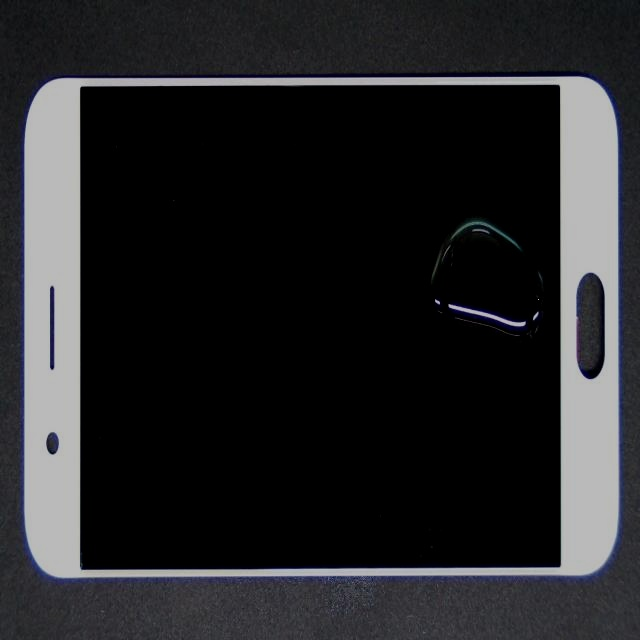oil: (208, 121, 640, 428)
